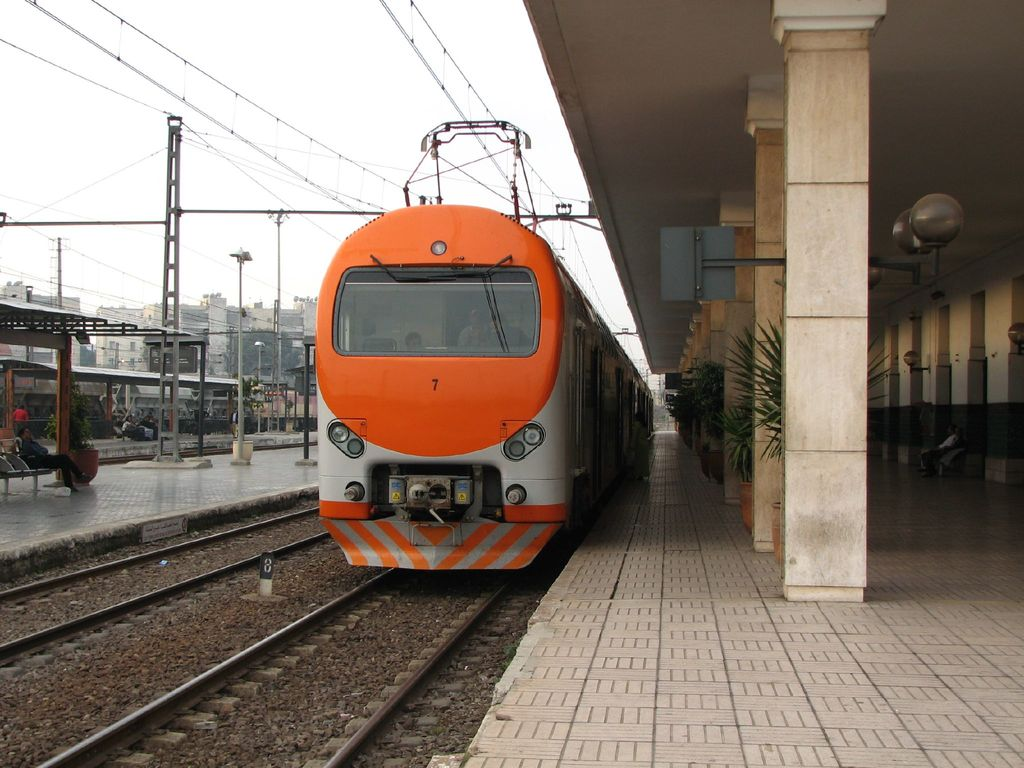train: (310, 111, 659, 584)
